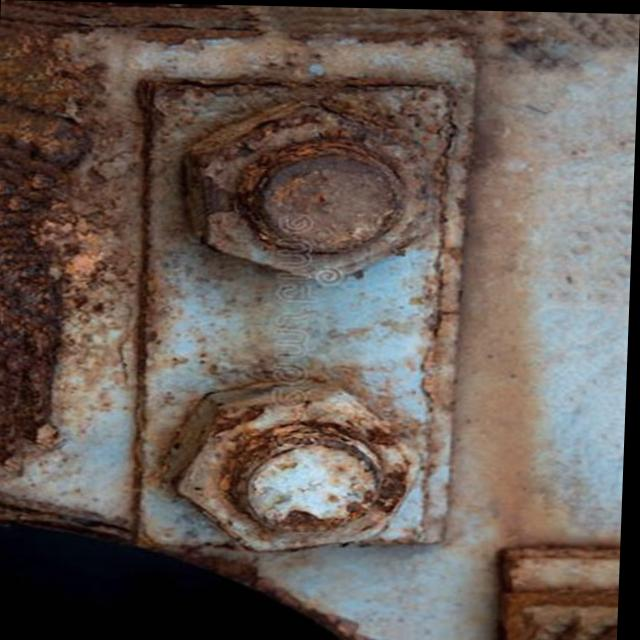Rusty bolt: (183, 101, 436, 281), (170, 380, 427, 551)
